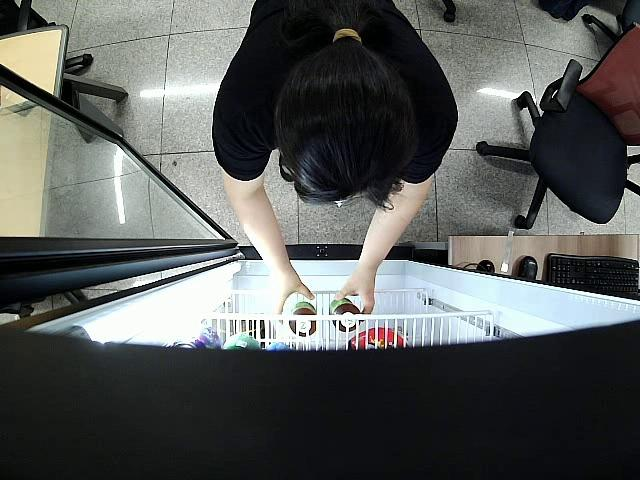00_hand: (270, 277, 313, 329), (331, 277, 377, 319)
19_17cha: (286, 299, 317, 339), (329, 303, 361, 331)
